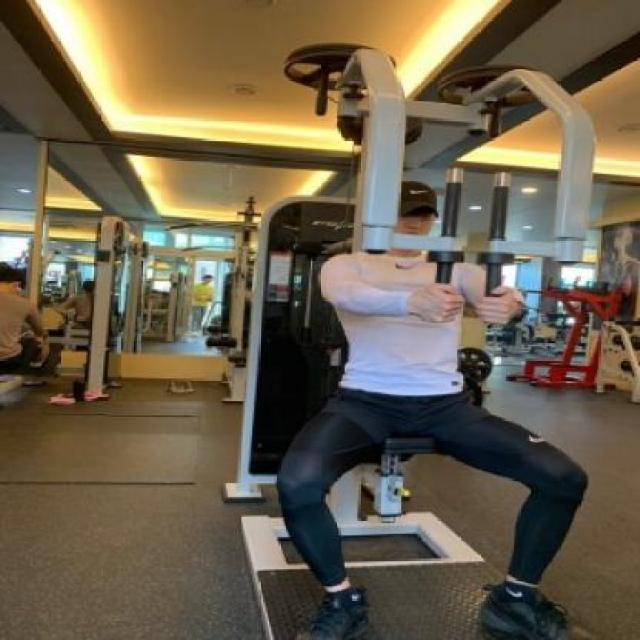chest fly machine: (164, 21, 640, 640)
